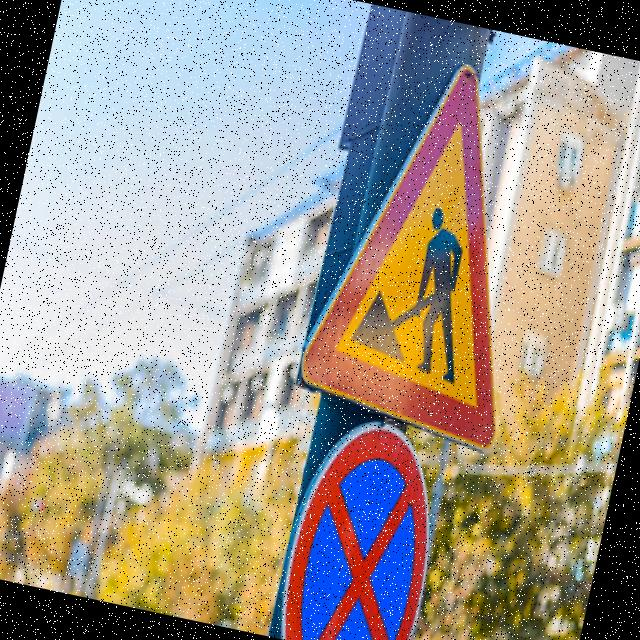no_parking: (260, 415, 459, 640)
